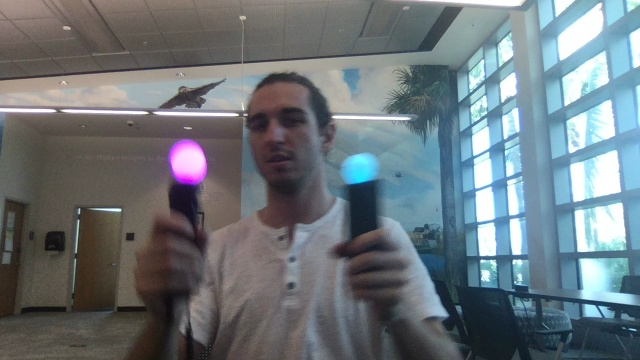wand: (170, 140, 207, 183), (343, 155, 378, 183)
